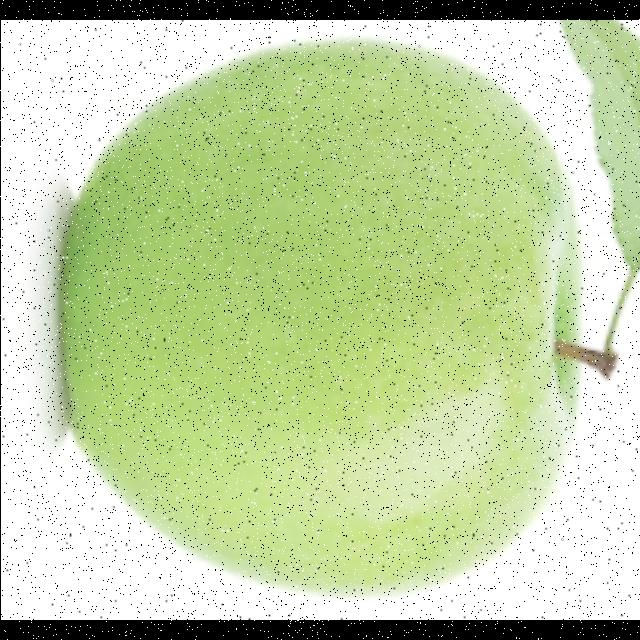Apel Segar: (62, 49, 585, 603)
